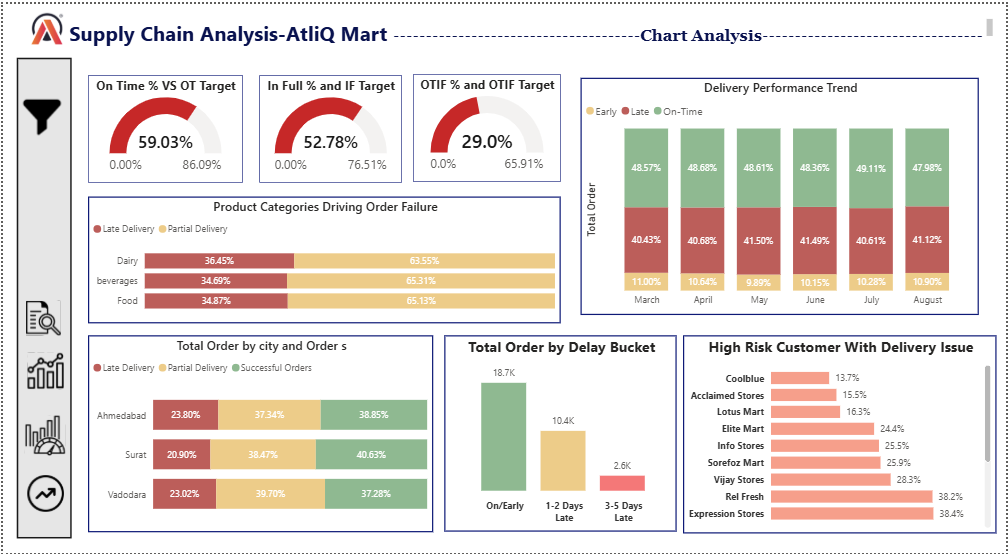

This screenshot's page, from the dashboard's own definition file:
{"tool":"powerbi","page":{"name":"Chart Analysis Page","canvas":[1316,720],"ordinal":2},"visuals":[{"type":"image","box":[11.2,11.2,93.4,41.2],"z":0,"group":"g1"},{"type":"shape","box":[17.5,71.2,72.1,630.5],"z":0,"group":"g2"},{"type":"hundredPercentStackedBarChart","fields":{"Y":["fact_order_lines.Total Order"],"Category":["dim_customers.city"],"Series":["fact_order_lines.Order s"]},"box":[111.3,434.6,452.4,258.1],"z":0},{"type":"group","id":"g1","title":"topic","box":[11.2,11.2,1292.5,50],"z":1000},{"type":"textbox","box":[82.3,13.7,1221.4,47.5],"z":1000,"group":"g1"},{"type":"actionButton","box":[27.4,448,56.1,68],"z":1000,"group":"g2"},{"type":"gauge","title":"On Time % VS  OT Target","fields":{"Y":["fact_orders_aggregate.On Time %"],"MaxValue":["dim_targets_orders.OT Target"]},"box":[111.3,92.9,203,140.6],"z":2000},{"type":"actionButton","box":[24.6,534.4,61.6,62.8],"z":2000,"group":"g2"},{"type":"gauge","fields":{"Y":["fact_orders_aggregate.In Full %"],"MaxValue":["dim_targets_orders.IF Target"]},"box":[336.3,92.9,187.1,140.6],"z":3000},{"type":"actionButton","box":[27.4,614.2,56.1,57.6],"z":3000,"group":"g2"},{"type":"gauge","fields":{"Y":["fact_orders_aggregate.OTIF %"],"MaxValue":["dim_targets_orders.OTIF Target"]},"box":[537.5,92.5,193.8,141.2],"z":4000},{"type":"actionButton","box":[26,386.5,58.9,53.6],"z":4000,"group":"g2"},{"type":"hundredPercentStackedColumnChart","title":"Delivery Performance Trend","fields":{"Category":["dim_date.date.Variation.Date Hierarchy.Month"],"Series":["fact_order_lines.Order Status"],"Y":["fact_order_lines.Total Order"]},"box":[758,96.4,522.1,311.5],"z":5000},{"type":"hundredPercentStackedBarChart","title":"Product Categories Driving Order Failure","fields":{"Category":["dim_products.category"],"Series":["fact_order_lines.Order s"],"Y":["fact_order_lines.Total Order"]},"box":[111.3,252.2,620,166.1],"z":6000},{"type":"clusteredColumnChart","fields":{"Category":["fact_order_lines.Delay Bucket"],"Y":["fact_order_lines.Total Order"]},"box":[578.8,435,305,257.5],"z":7000},{"type":"group","id":"g2","title":"side panel","box":[17.5,71.2,72.5,630],"z":8000},{"type":"actionButton","box":[17.3,109.6,66.4,73.6],"z":9000},{"type":"clusteredBarChart","title":"High Risk Customer With Delivery Issue","fields":{"Category":["dim_customers.customer_name"],"Y":["fact_orders_aggregate.OTIF %"]},"box":[892.5,435,411.2,260],"z":11000}]}

Visuals, with their boxes in screenshot pixels (x1, y1, x2, y2), scaled from the page's 1316x720 canvas onto the 1008x554 screenshot:
image: <box>9,9,80,40</box>
shape: <box>13,55,69,540</box>
hundredPercentStackedBarChart - fact_order_lines.Total Order x dim_customers.city: <box>85,334,432,533</box>
"topic" group: <box>9,9,999,47</box>
textbox: <box>63,11,999,47</box>
actionButton: <box>21,345,64,397</box>
"On Time % VS  OT Target" gauge: <box>85,71,241,180</box>
actionButton: <box>19,411,66,460</box>
gauge - fact_orders_aggregate.In Full % x dim_targets_orders.IF Target: <box>258,71,401,180</box>
actionButton: <box>21,473,64,517</box>
gauge - fact_orders_aggregate.OTIF % x dim_targets_orders.OTIF Target: <box>412,71,560,180</box>
actionButton: <box>20,297,65,339</box>
"Delivery Performance Trend" hundredPercentStackedColumnChart: <box>581,74,981,314</box>
"Product Categories Driving Order Failure" hundredPercentStackedBarChart: <box>85,194,560,322</box>
clusteredColumnChart - fact_order_lines.Delay Bucket x fact_order_lines.Total Order: <box>443,335,677,533</box>
"side panel" group: <box>13,55,69,540</box>
actionButton: <box>13,84,64,141</box>
"High Risk Customer With Delivery Issue" clusteredBarChart: <box>684,335,999,535</box>
